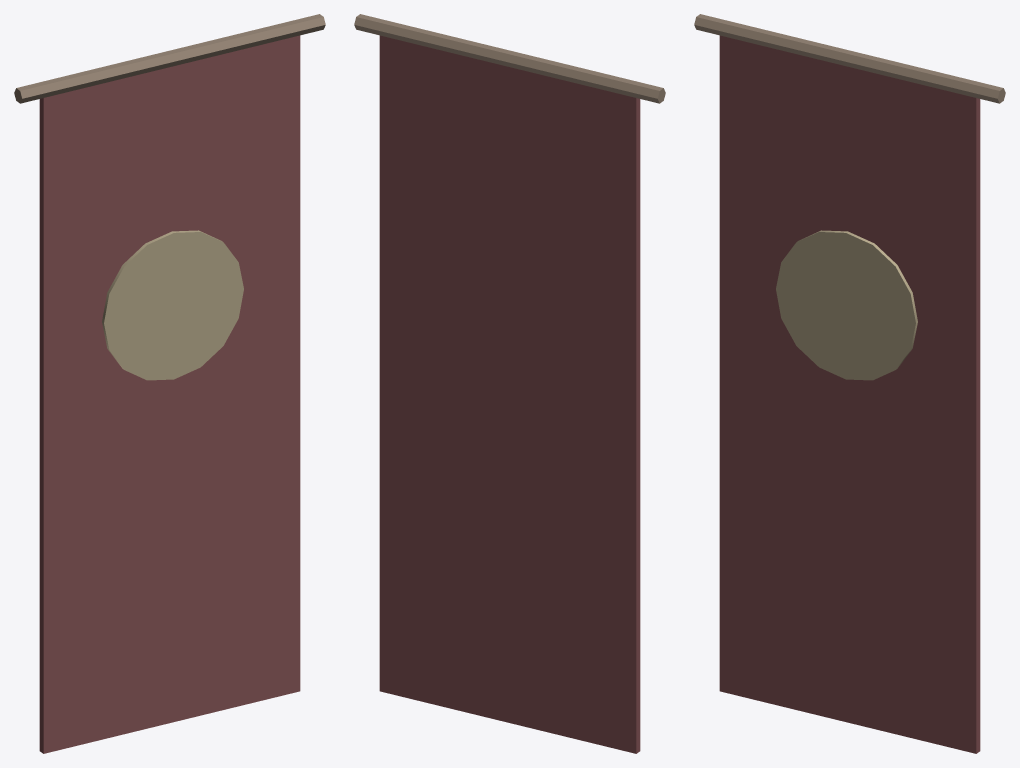
Rendered from chapel_banner.gltf.
The picture shows the model from 3 angles, left to right: view 1: azimuth 30°, elevation 25°; view 2: azimuth 150°, elevation 25°; view 3: azimuth 330°, elevation 25°; orthographic projection.
Visible parts, largest first — view 1: Body; view 2: Body; view 3: Body.
Part boxes in pixels (x1,y1,x2,y2): Body: [14, 14, 325, 753]; Body: [354, 14, 665, 753]; Body: [694, 14, 1005, 753].
Bounding box in the file's own units: 1.3 × 2.74 × 0.06.
